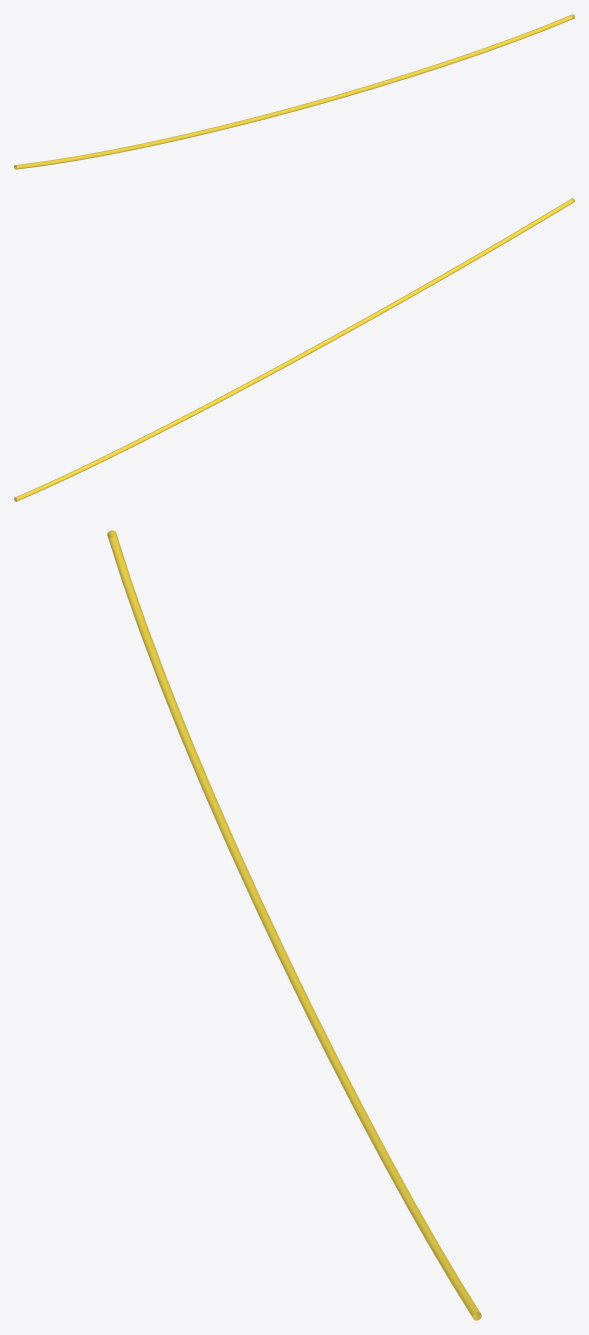
Rendered from Event_419990632_track_31.fbx.
The picture shows the model from 3 angles, top to bottom: view 1: azimuth 30°, elevation 25°; view 2: azimuth 210°, elevation 25°; view 3: azimuth 270°, elevation 25°; orthographic projection. The views are drawn at different scales.
Visible parts, largest first — view 1: Model; view 2: Model; view 3: Model.
Boxes of the visible parts, x1,y1,x2,y2 form: Model: [14, 14, 574, 169]; Model: [14, 198, 574, 501]; Model: [107, 530, 481, 1320].
Size of the model in its own units: 6.39 by 0.7382 by 1.59.
